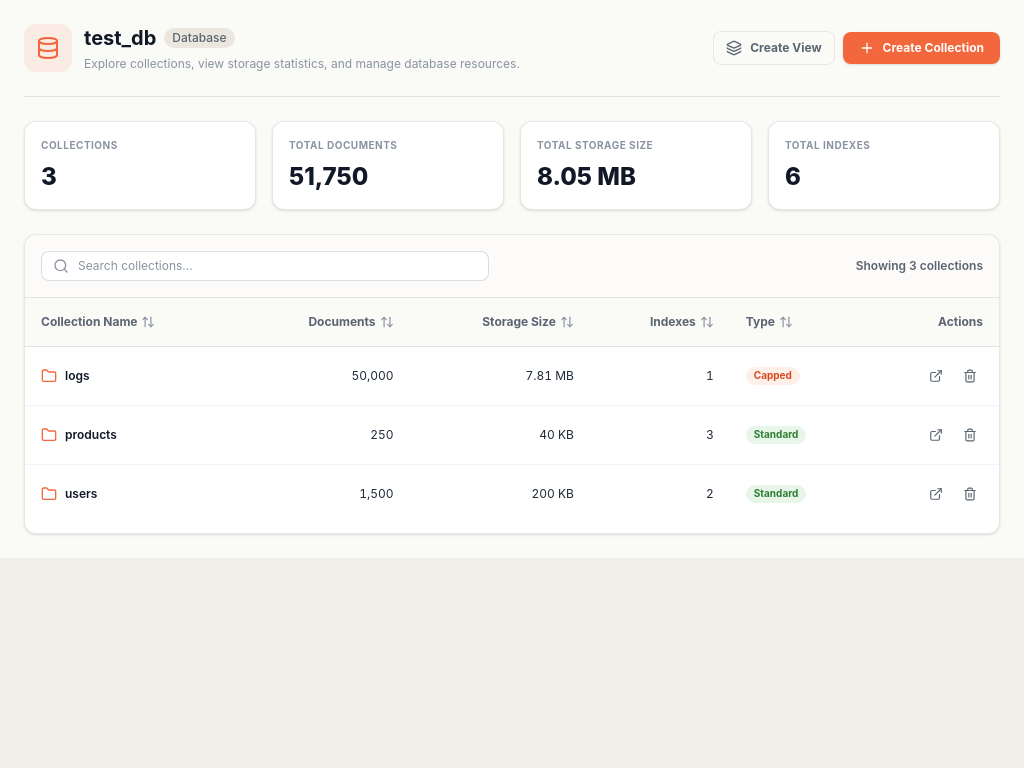
Test: DatabaseCollectionsView › shows empty state when search term matches nothing
The image size is (1024, 768).
Type "zzznomatch" into the field with placeholder "Search collections..." at coordinates (265, 266), box [41, 251, 489, 281]
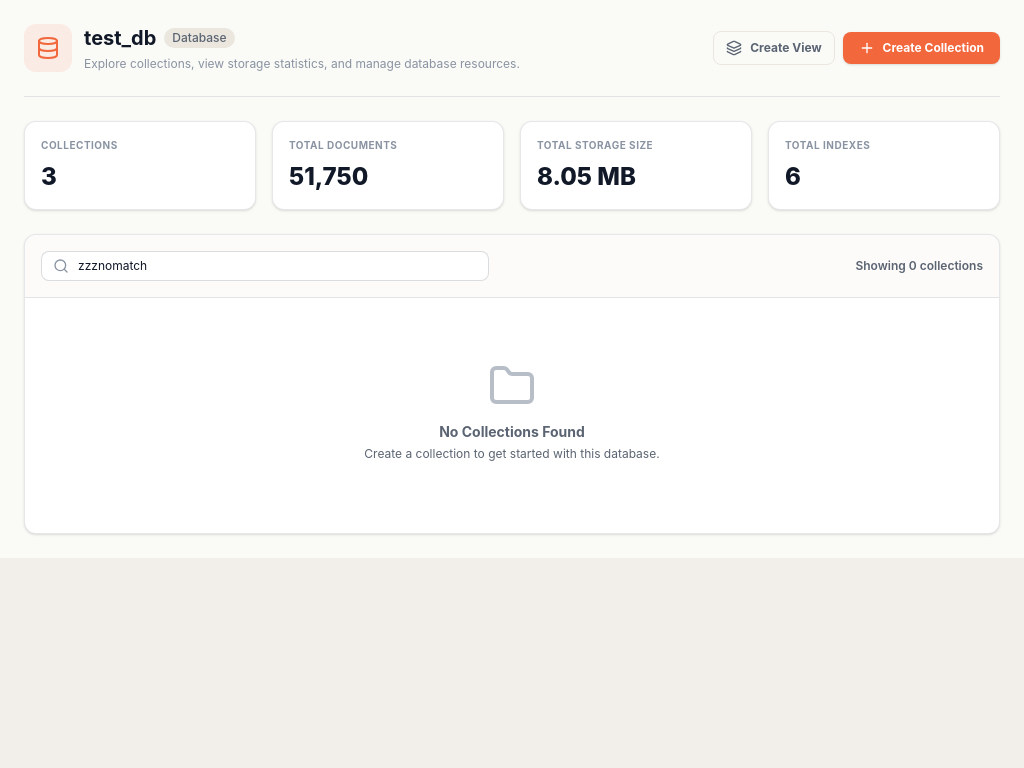
Result: the text "No Collections Found" is shown at [439, 422, 585, 442]
Result: the text "Showing 0 collections" is shown at [855, 258, 983, 274]
